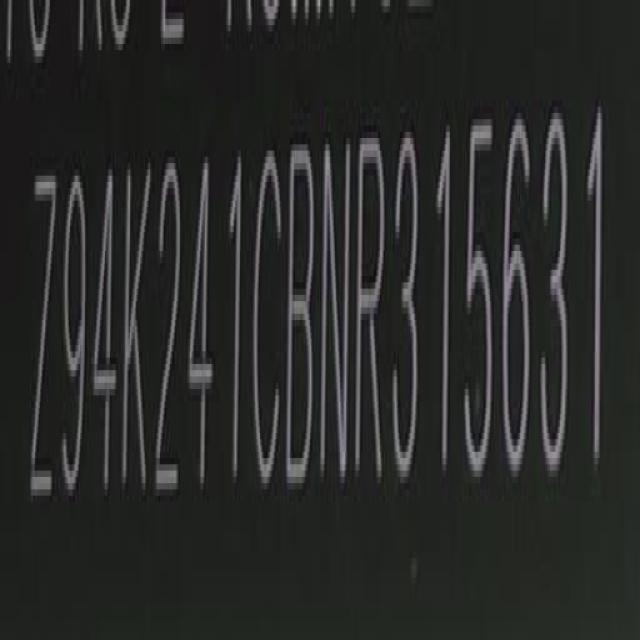1: (584, 105, 610, 488), (224, 150, 247, 499), (434, 123, 454, 493)
2: (154, 155, 183, 505)
3: (544, 111, 574, 481), (395, 127, 425, 489)
4: (190, 154, 218, 502), (94, 164, 120, 508)
5: (462, 112, 493, 484)
6: (503, 111, 535, 480)
9: (63, 170, 89, 514)
B: (288, 137, 318, 495)
C: (253, 147, 284, 492)
K: (122, 160, 154, 493)
N: (321, 129, 352, 491)
R: (355, 128, 388, 490)
Z: (27, 167, 57, 525)
